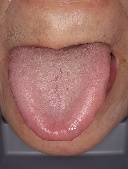tongue: (6, 54, 111, 142)
